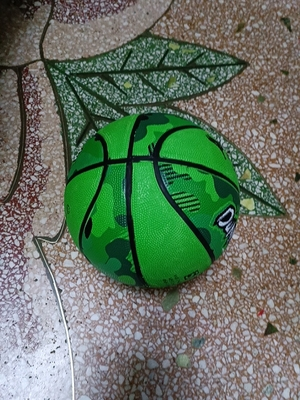ball: (64, 113, 241, 289)
